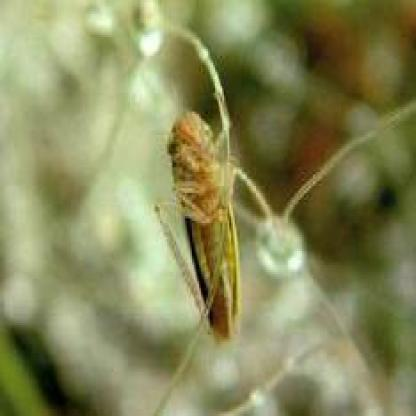Green-Leafhopper: (149, 108, 246, 346)
